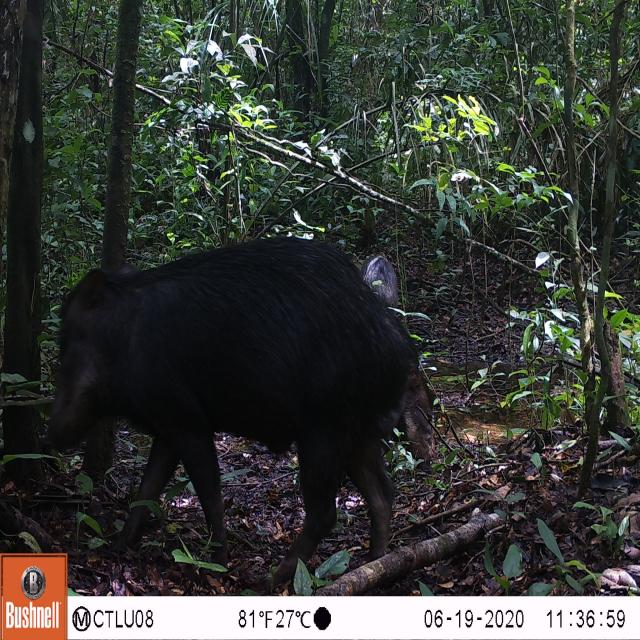Collared Peccary: (28, 219, 444, 586)
